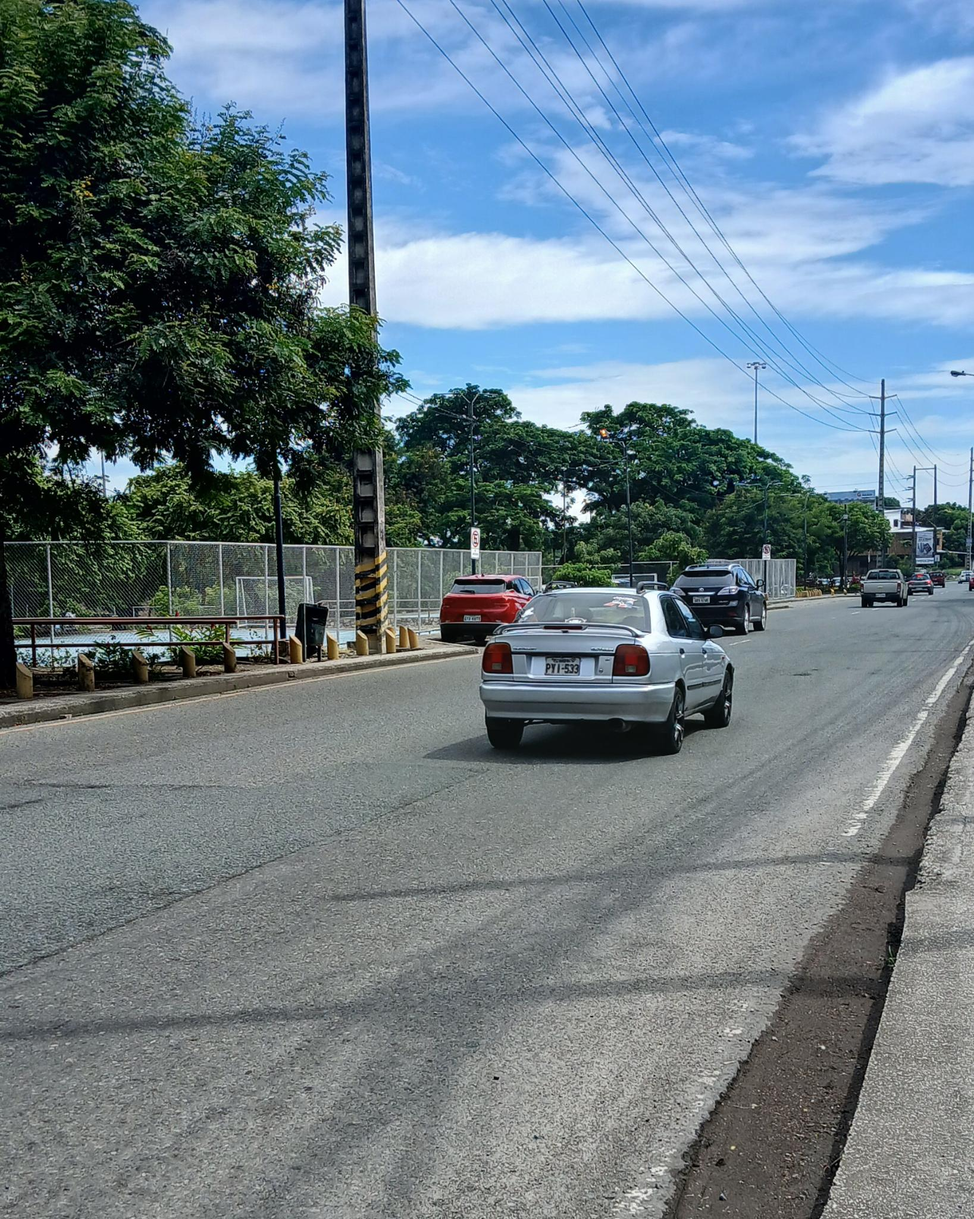license_plate: (543, 656, 581, 675), (462, 615, 480, 622), (693, 596, 710, 603), (875, 592, 887, 598)
